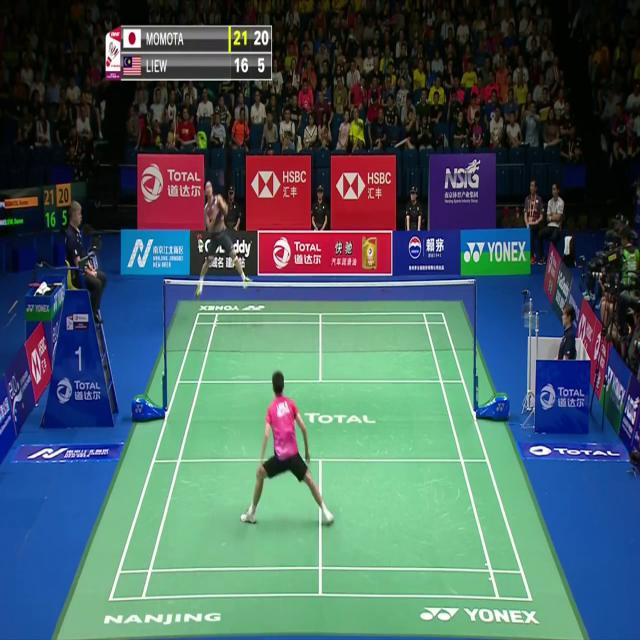Shuttlecock: (197, 282, 204, 294)
